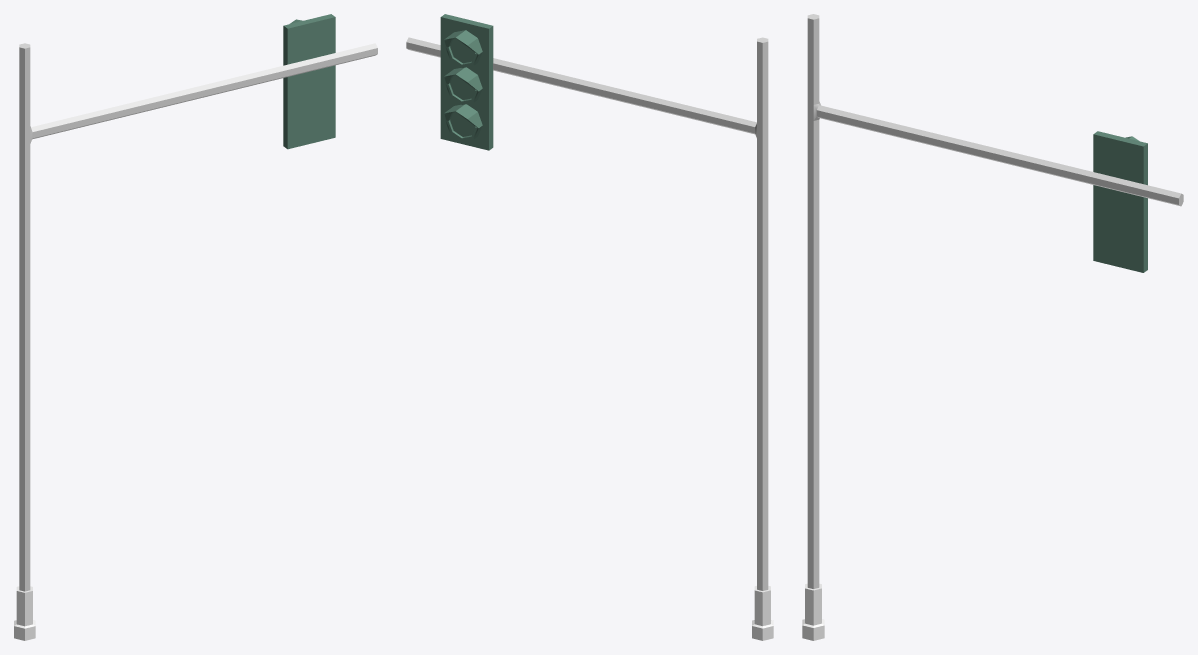
File: stoplight.fbx
The picture shows the model from 3 angles, left to right: view 1: azimuth 30°, elevation 25°; view 2: azimuth 150°, elevation 25°; view 3: azimuth 330°, elevation 25°; orthographic projection. The views are drawn at different scales.
Visible parts, largest first — view 1: post, pCube16; view 2: post, pCube16, pCylinder1, pCylinder5, pCylinder3; view 3: post, pCube16.
Part boxes in pixels (<box>): post: <box>14,43,377,640</box>; pCube16: <box>283,14,335,149</box>; post: <box>406,37,773,640</box>; pCube16: <box>440,14,493,150</box>; pCylinder1: <box>444,30,482,67</box>; pCylinder5: <box>444,104,482,141</box>; pCylinder3: <box>444,67,482,104</box>; post: <box>802,14,1183,640</box>; pCube16: <box>1093,131,1147,272</box>.
Bounding box in the file's own units: 823 × 1282 × 85.75.
Materials: 2 (1 with a texture image).
